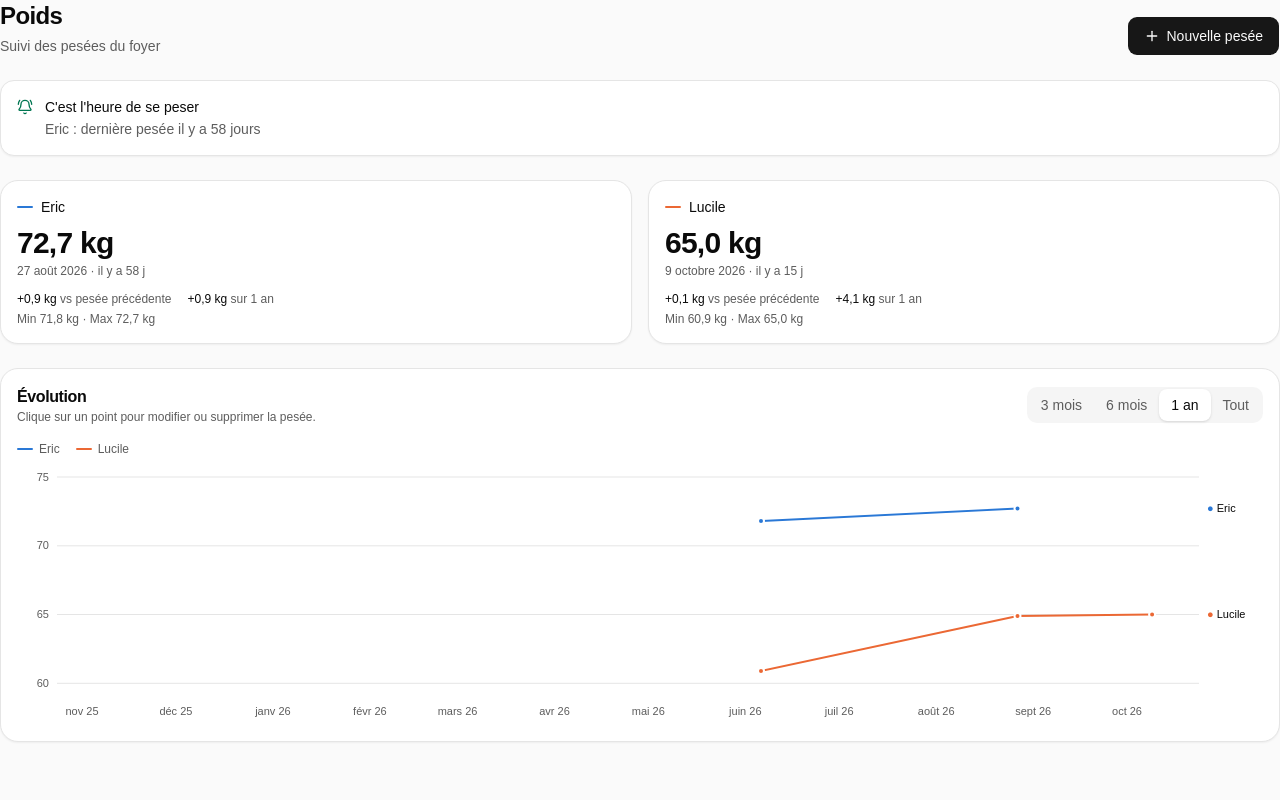
Test: WeightPage › refuse une date future et préremplit une date déjà pesée
Expected: the picture named "Évolution du poids" is shown, left=17, top=465, right=1263, bottom=725
Click the button "Nouvelle pesée" at (1204, 36), box left=1128, top=16, right=1279, bottom=56
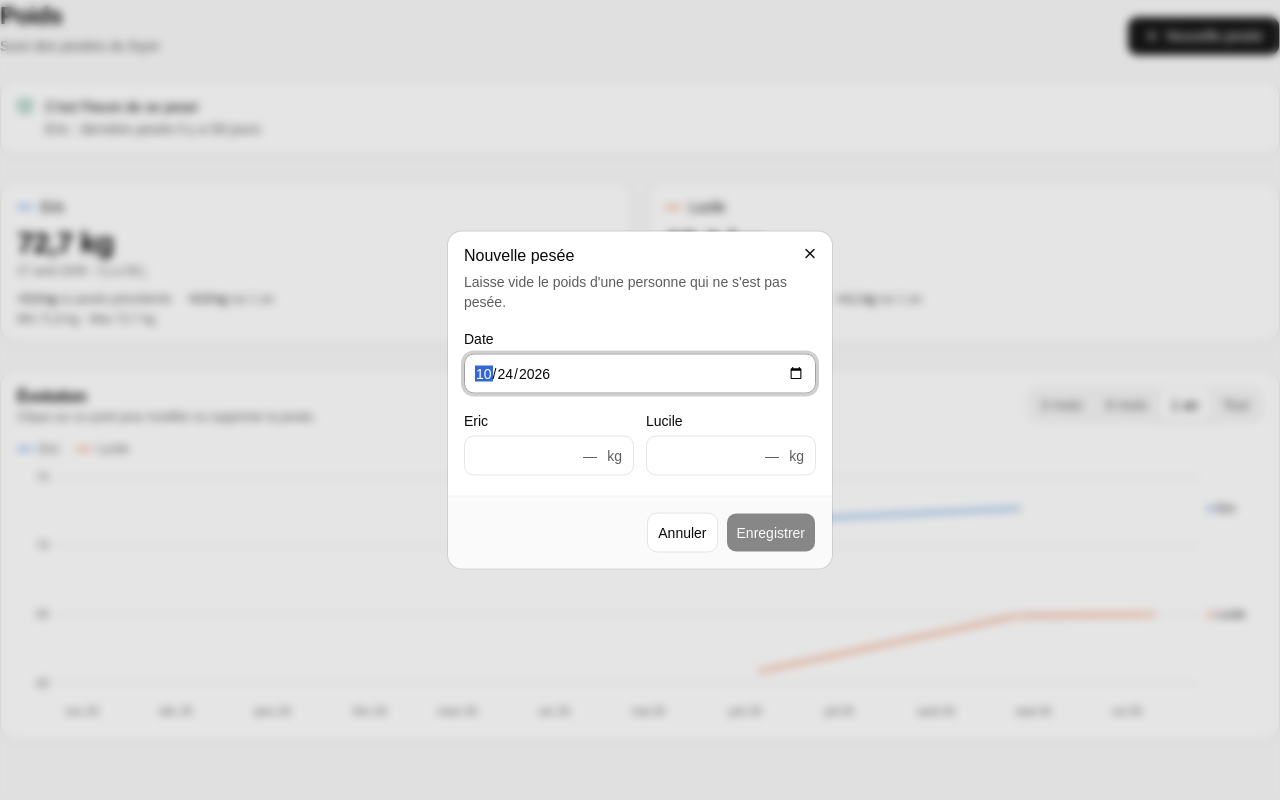
Type "2026-10-30" into the date field labelled "Date" at (640, 374), box left=464, top=354, right=816, bottom=394
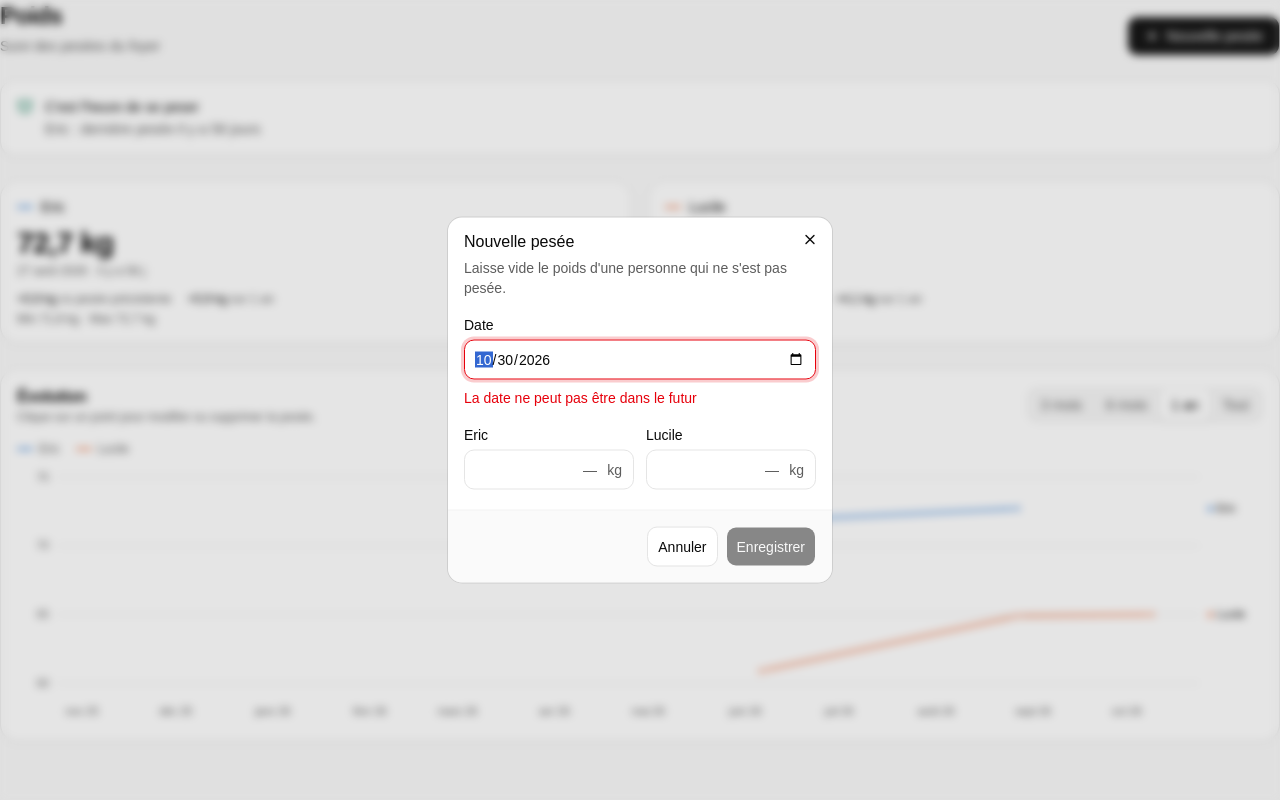
Expected: the text "La date ne peut pas être dans le futur" is shown, left=464, top=390, right=697, bottom=406
Type "2026-08-27" into the date field labelled "Date" at (640, 360), box left=464, top=340, right=816, bottom=380
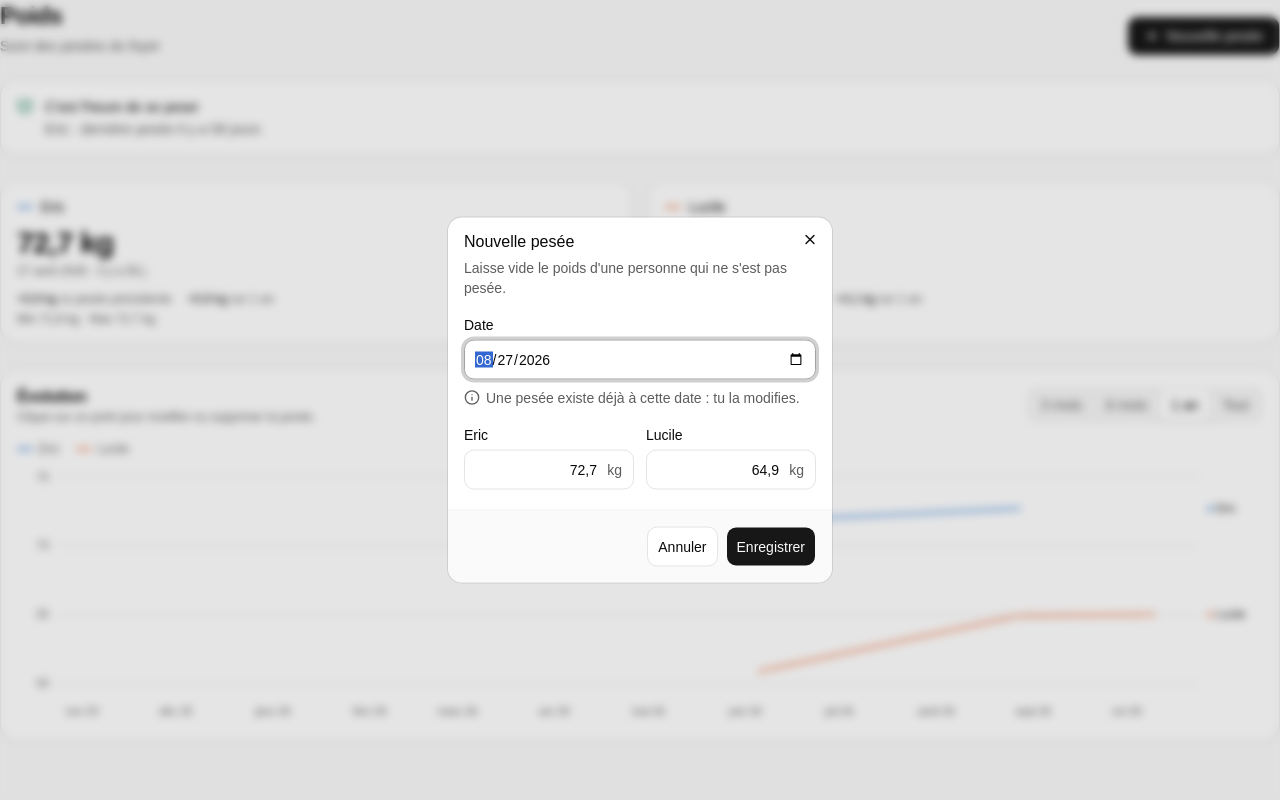
Expected: the text "Une pesée existe déjà à cette date : tu la modifies." is shown, left=464, top=388, right=816, bottom=408
Expected: the field labelled "Lucile" holds "64,9", left=646, top=450, right=816, bottom=490
Expected: the field labelled "Eric" holds "72,7", left=464, top=450, right=634, bottom=490
